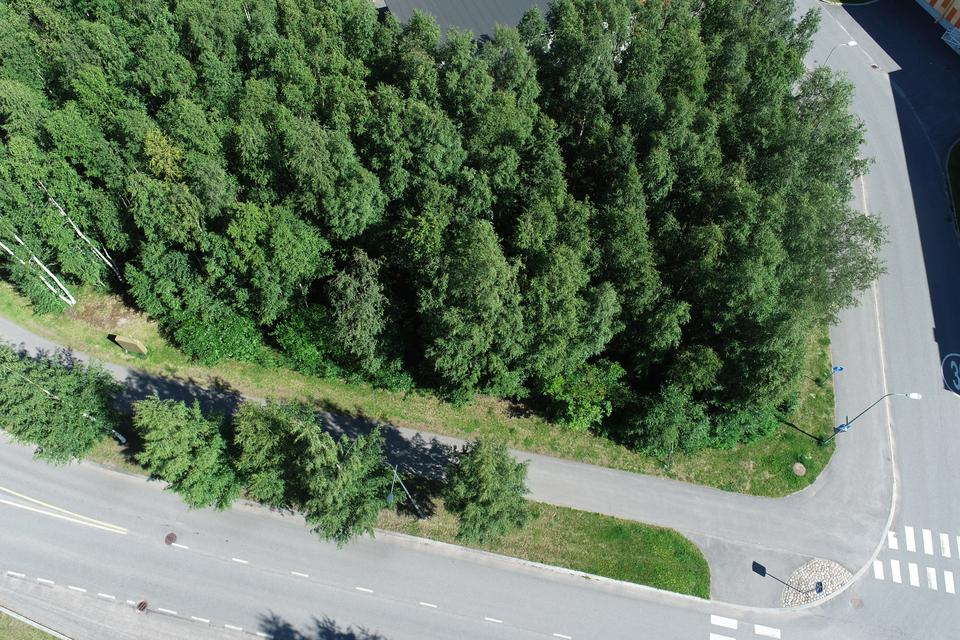intersection: (672, 449, 960, 640)
